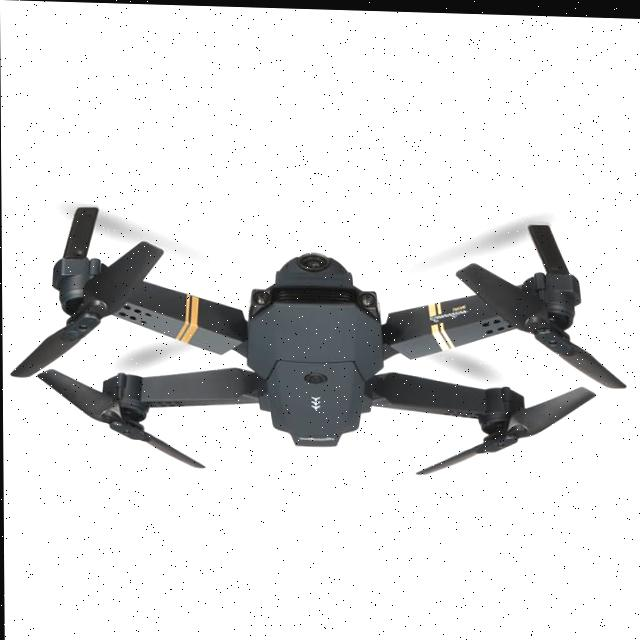drone: (20, 187, 632, 488)
